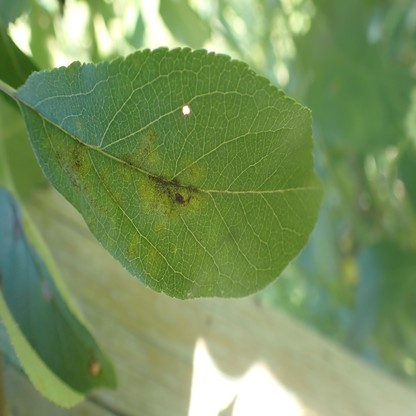scab: (137, 175, 203, 231), (45, 130, 88, 191), (89, 171, 119, 217), (124, 128, 157, 168), (179, 163, 204, 182), (126, 232, 139, 260), (145, 249, 159, 270), (153, 221, 165, 239), (86, 213, 96, 231)
